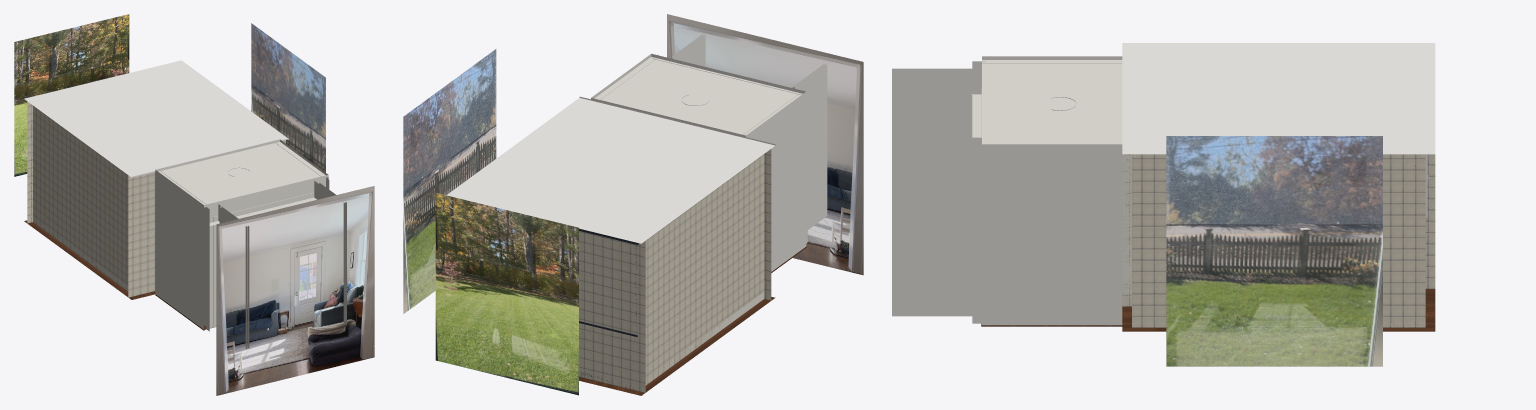
File: office.glb
The picture shows the model from 3 angles, left to right: view 1: azimuth 30°, elevation 25°; view 2: azimuth 150°, elevation 25°; view 3: azimuth 270°, elevation 25°; orthographic projection. The views are drawn at different scales.
Parts seen in each view (by area): view 1: static, emissive; view 2: static, emissive; view 3: static, emissive.
Part boxes in pixels (box(x1,y1,x2,y2)): static: box(24, 60, 346, 348); emissive: box(14, 14, 374, 395); static: box(446, 34, 827, 395); emissive: box(403, 14, 863, 395); static: box(892, 43, 1435, 331); emissive: box(1166, 136, 1382, 366).
Size of the model in its own units: 4.37 by 4 by 7.85.
Materials: 110 (52 with a texture image).
